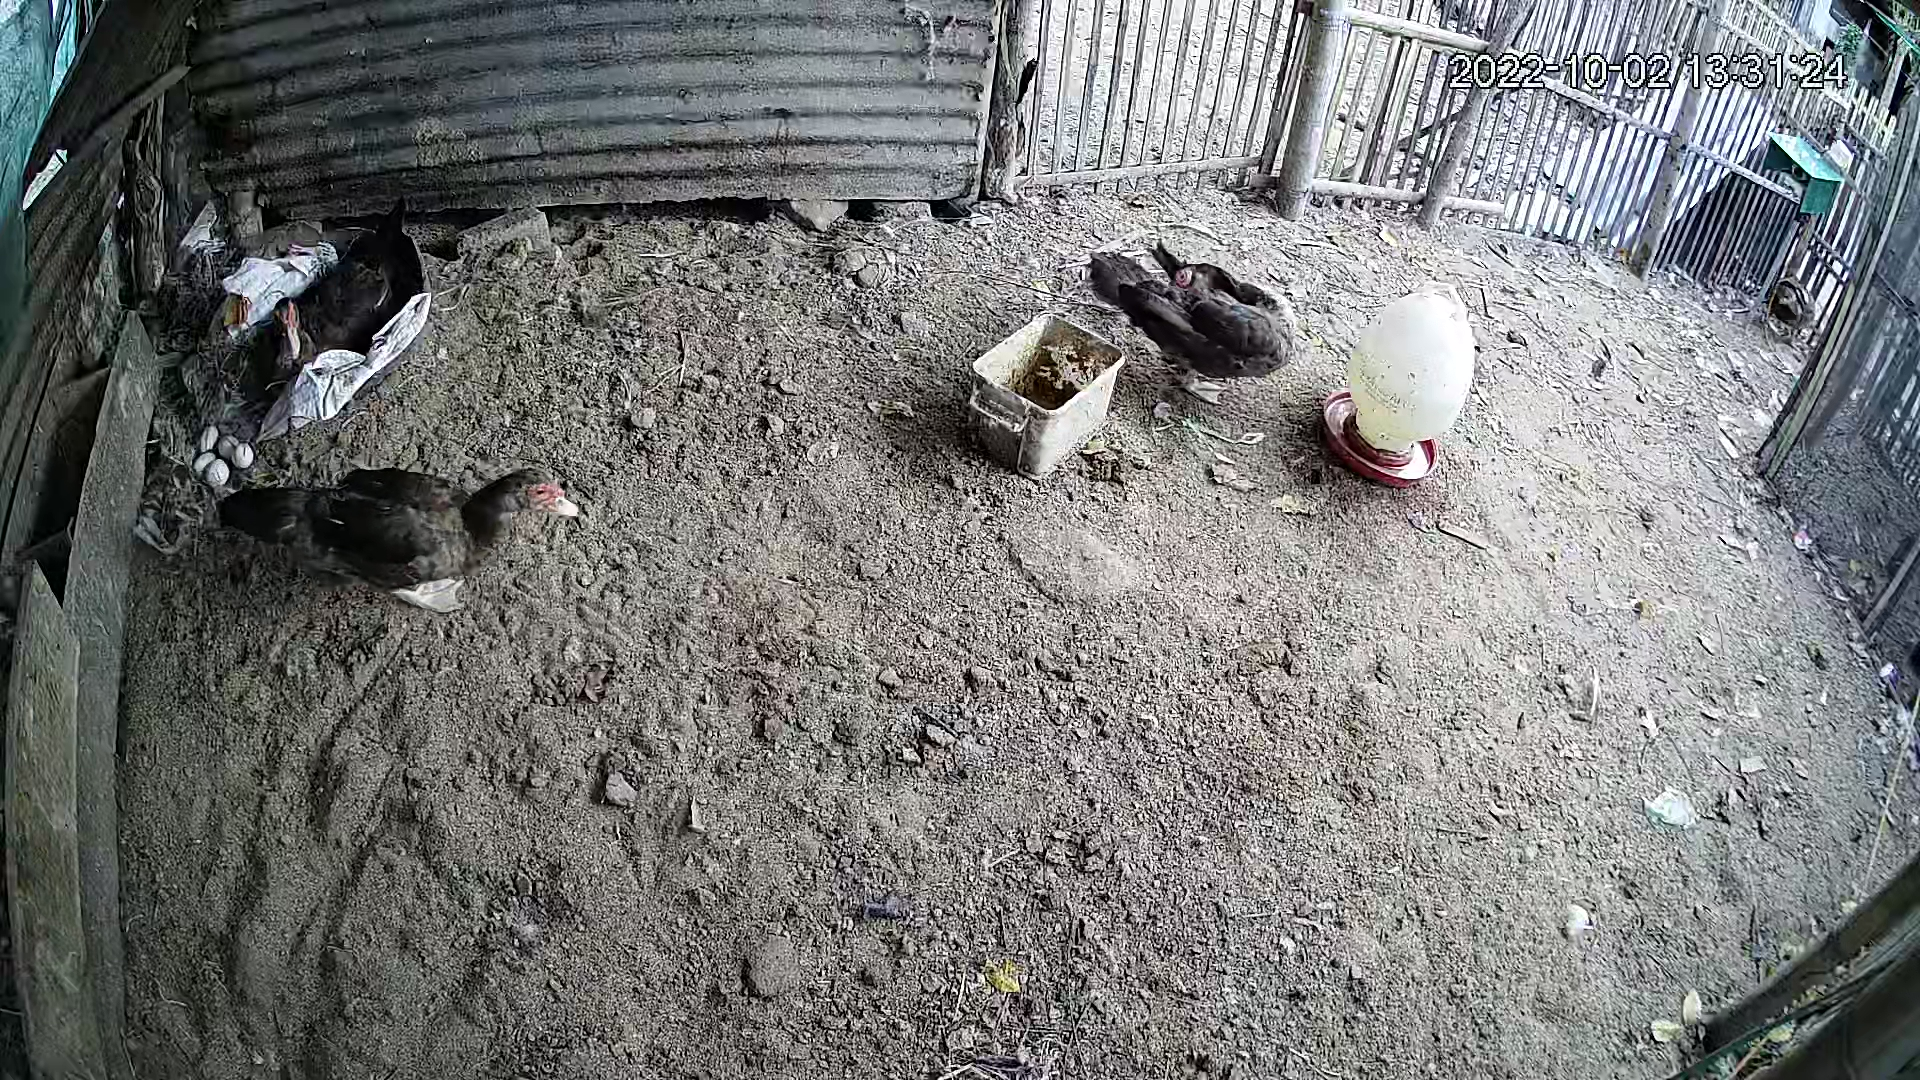Mengeram: (145, 206, 417, 491)
